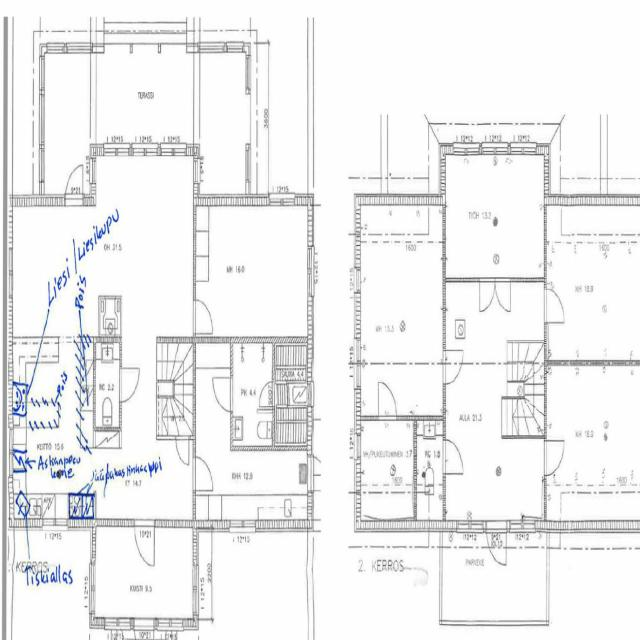door: (486, 520, 506, 570), (65, 161, 83, 207), (135, 520, 154, 563), (308, 457, 332, 490), (544, 441, 565, 476), (193, 300, 214, 334), (212, 377, 233, 411), (119, 368, 140, 402), (378, 382, 396, 421), (193, 457, 213, 491), (443, 440, 463, 474), (443, 351, 463, 384), (544, 290, 564, 322), (134, 617, 154, 640), (259, 382, 275, 406), (176, 435, 188, 465)
